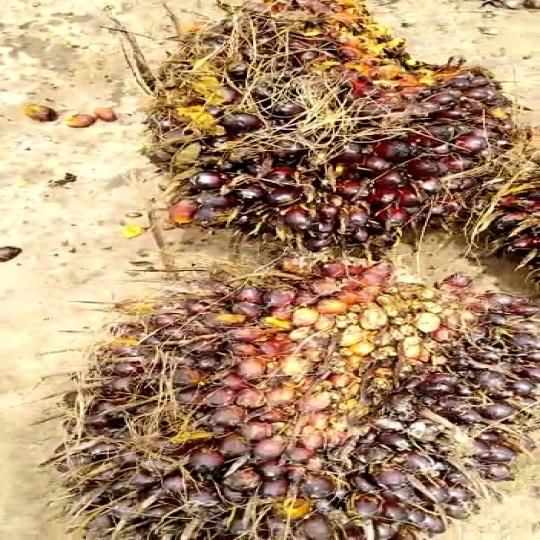kurang masak: (66, 254, 535, 538), (141, 0, 506, 255)
